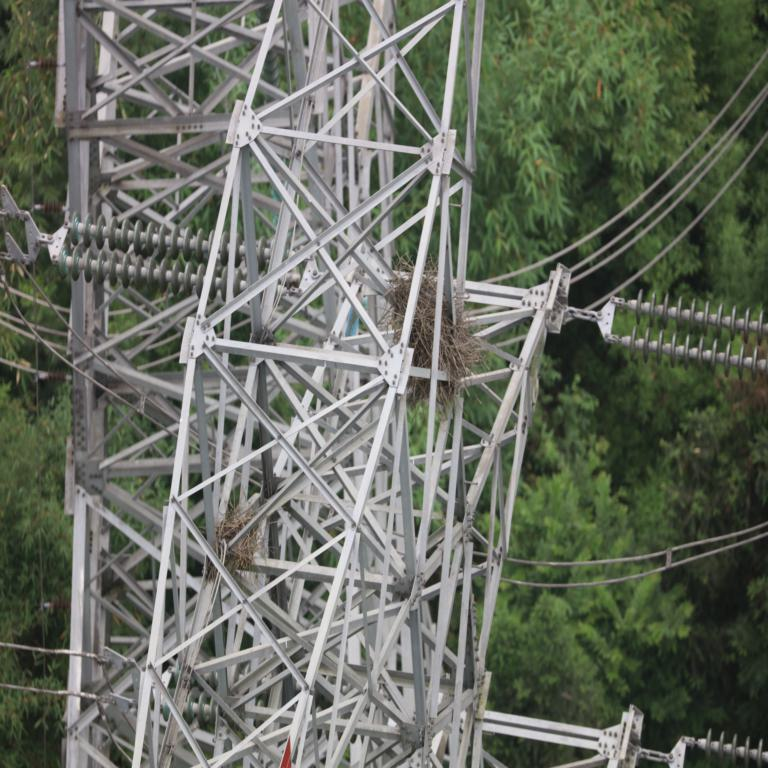nest: (390, 266, 471, 404)
